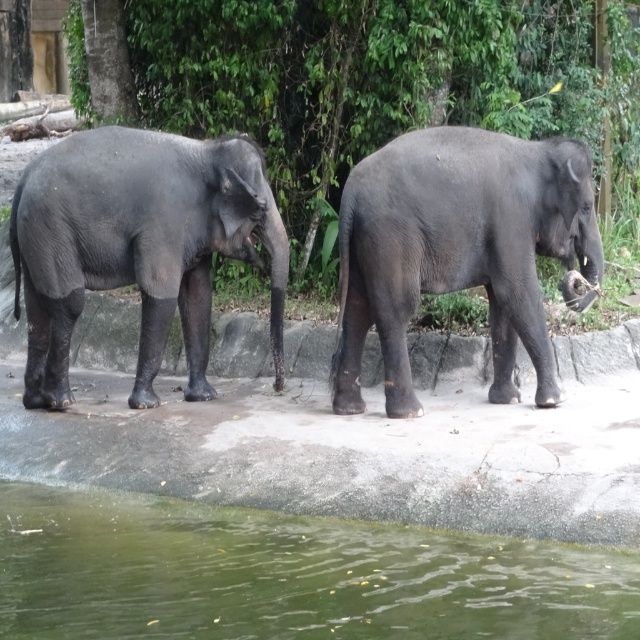Elephant: (332, 125, 604, 418), (8, 133, 292, 411)
